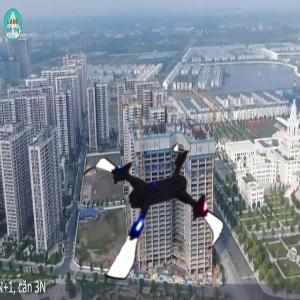drone: (72, 133, 231, 292)
